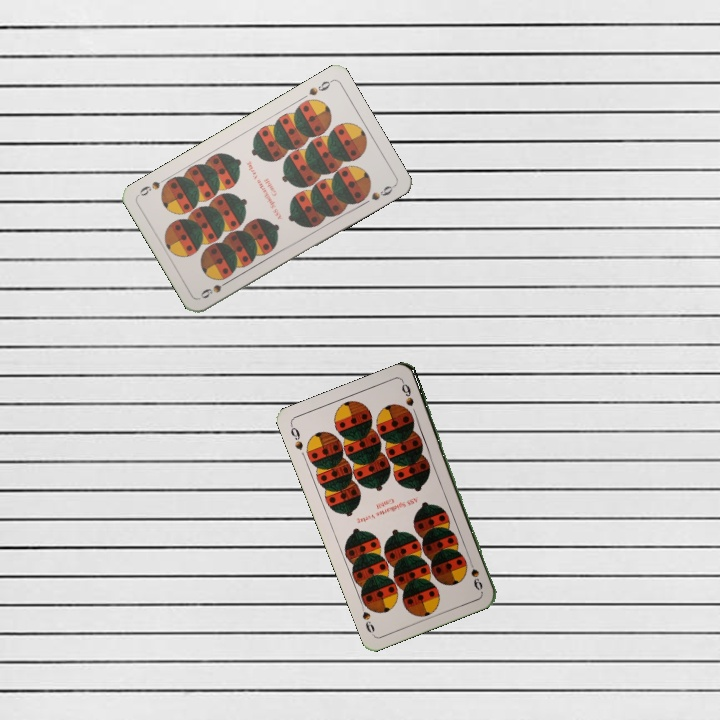S9: (196, 275, 234, 301), (464, 554, 485, 592), (304, 76, 335, 98), (286, 421, 306, 453)
